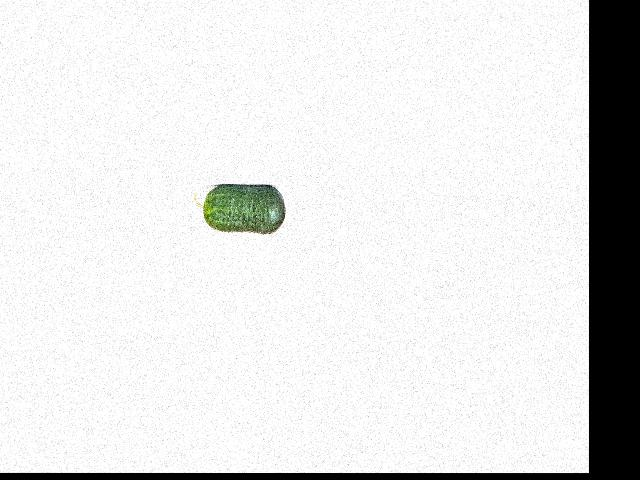cucumber: (193, 183, 284, 234)
